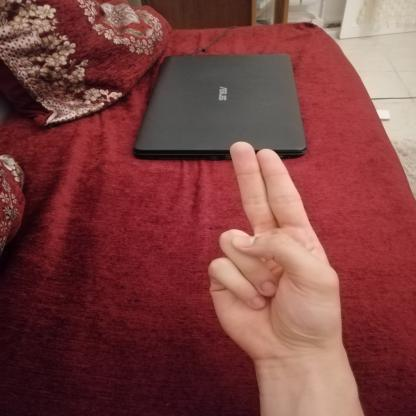TA: (196, 130, 362, 373)
